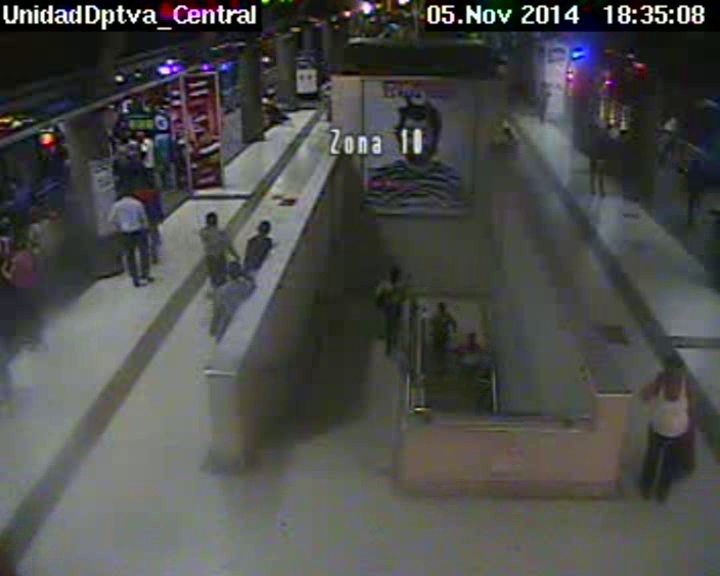person: (663, 351, 687, 379), (225, 261, 242, 278), (256, 218, 272, 236), (49, 190, 66, 206), (15, 234, 30, 250), (386, 267, 401, 282), (435, 300, 449, 314), (206, 213, 220, 226), (119, 182, 133, 195), (138, 175, 152, 188), (37, 205, 50, 219), (118, 134, 133, 146), (466, 331, 479, 344), (693, 147, 704, 162), (137, 125, 150, 137), (665, 108, 675, 121), (593, 126, 604, 137), (121, 151, 132, 162), (155, 122, 165, 133), (266, 92, 274, 101)
